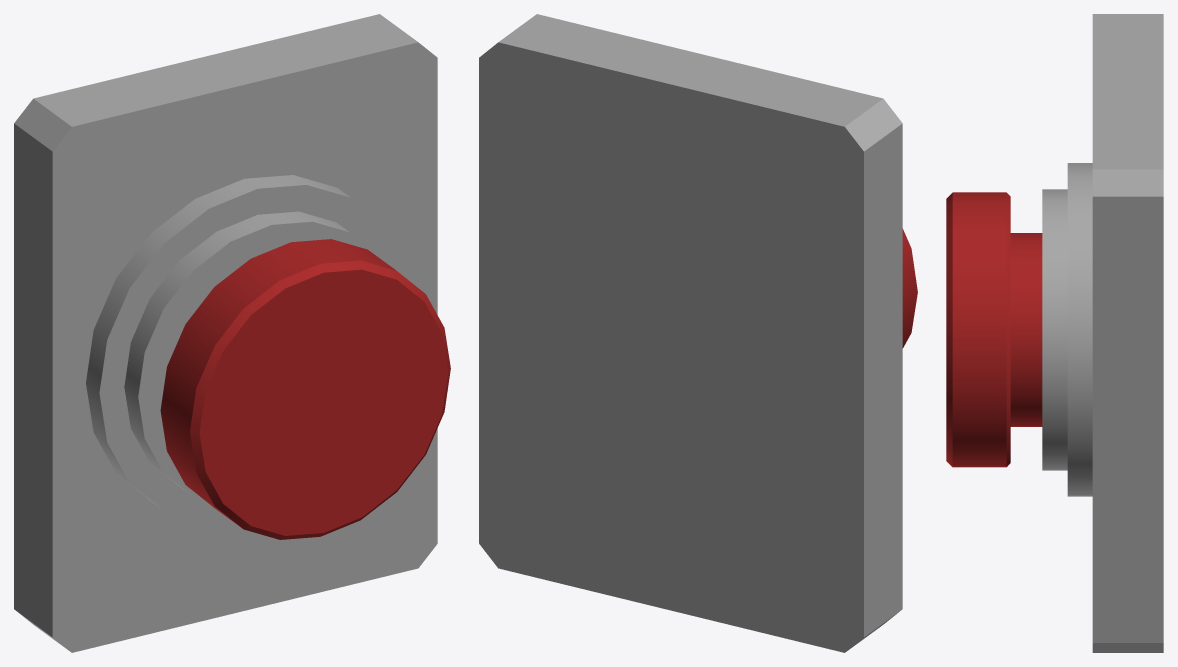
The model's file is Mod_ActivatedButton_v1.fbx.
The picture shows the model from 3 angles, left to right: view 1: azimuth 30°, elevation 25°; view 2: azimuth 150°, elevation 25°; view 3: azimuth 270°, elevation 25°; orthographic projection. The views are drawn at different scales.
Visible parts, largest first — view 1: standaard, polySurface1; view 2: standaard, polySurface1; view 3: standaard, polySurface1.
Part boxes in pixels (<box>): standaard: <box>14,14,437,652</box>; polySurface1: <box>160,239,450,539</box>; standaard: <box>479,14,902,652</box>; polySurface1: <box>902,228,917,348</box>; standaard: <box>1042,14,1163,652</box>; polySurface1: <box>946,192,1042,467</box>.
Bounding box in the file's own units: 42.65 × 55.7 × 22.71.
